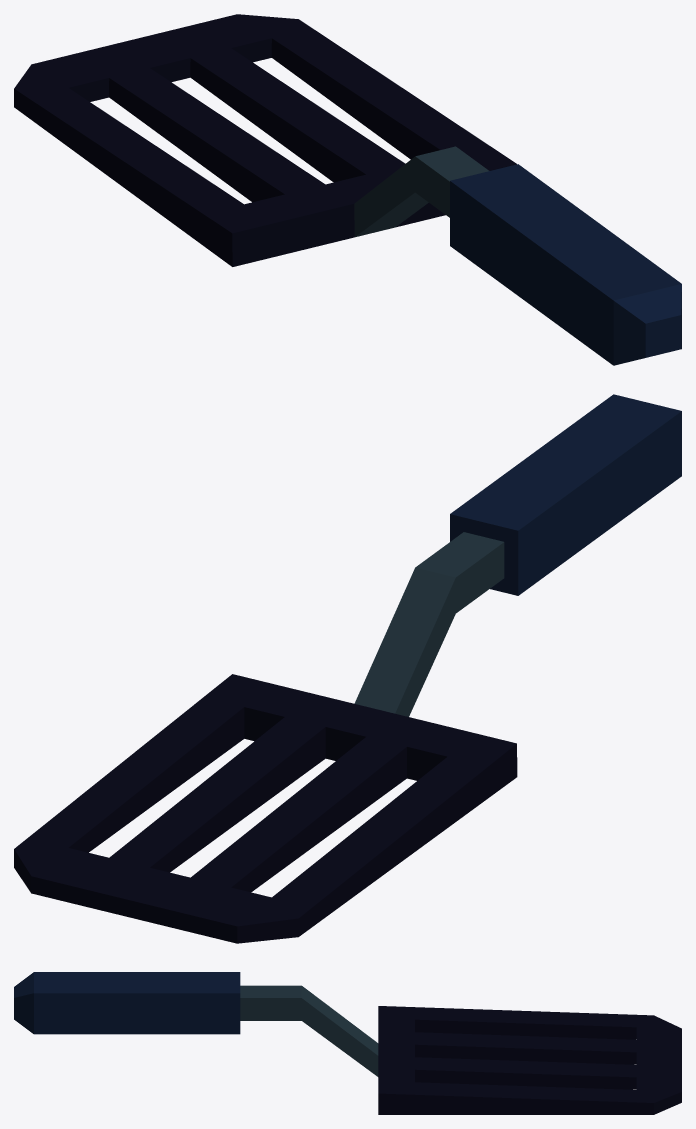
Rendered from Food_Spatoola.fbx.
3 renders of one model, top to bottom at view 1: azimuth 30°, elevation 25°; view 2: azimuth 150°, elevation 25°; view 3: azimuth 270°, elevation 25°, orthographic. The views are drawn at different scales.
Visible parts, largest first — view 1: Cube.324; view 2: Cube.324; view 3: Cube.324.
Part boxes in pixels (x1,y1,x2,y2): Cube.324: (14, 14, 681, 365); Cube.324: (14, 394, 681, 943); Cube.324: (14, 972, 681, 1114).
Bounding box in the file's own units: 12.32 × 5.79 × 39.67.
